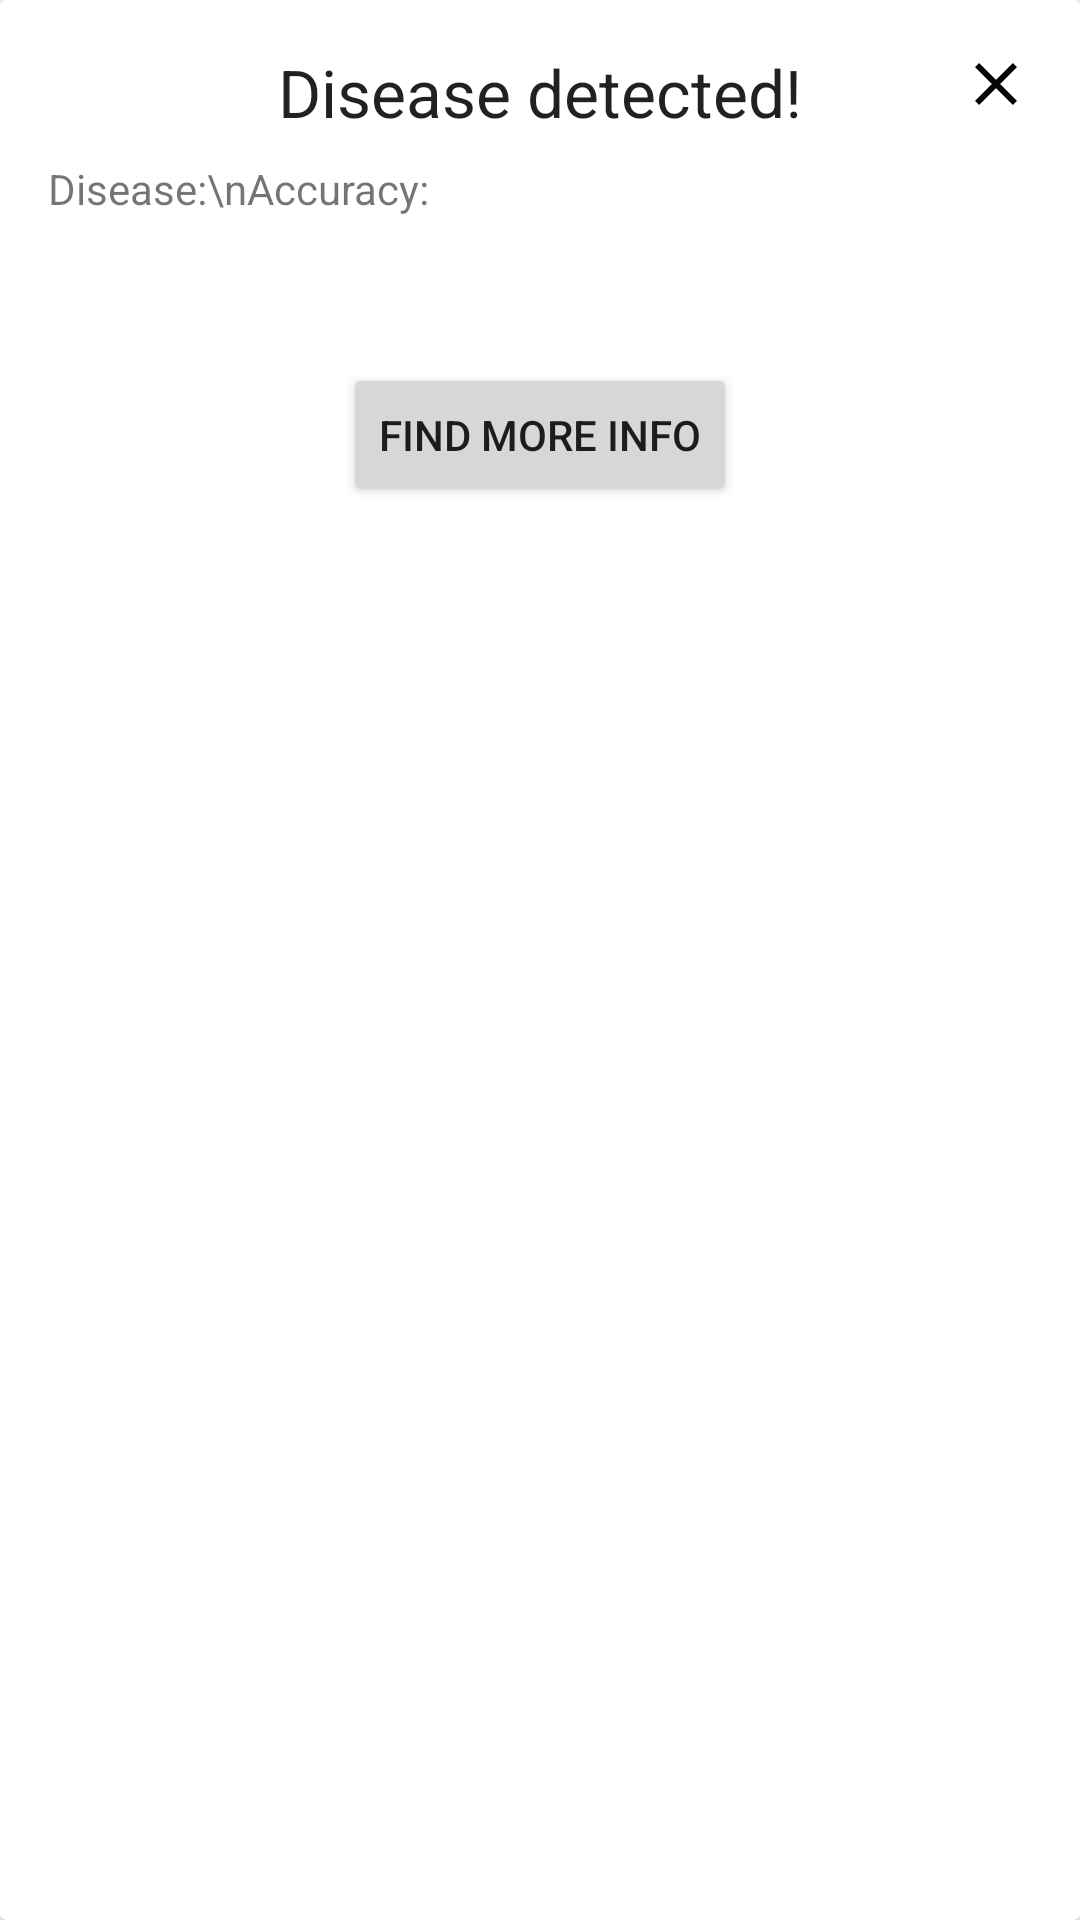

Icon bounding boxes for this 1080px x 1920px phone screenshot, format {"left": x1, "top": y1, "right": x2, "bottom": y2}:
close: {"left": 975, "top": 63, "right": 1017, "bottom": 105}
